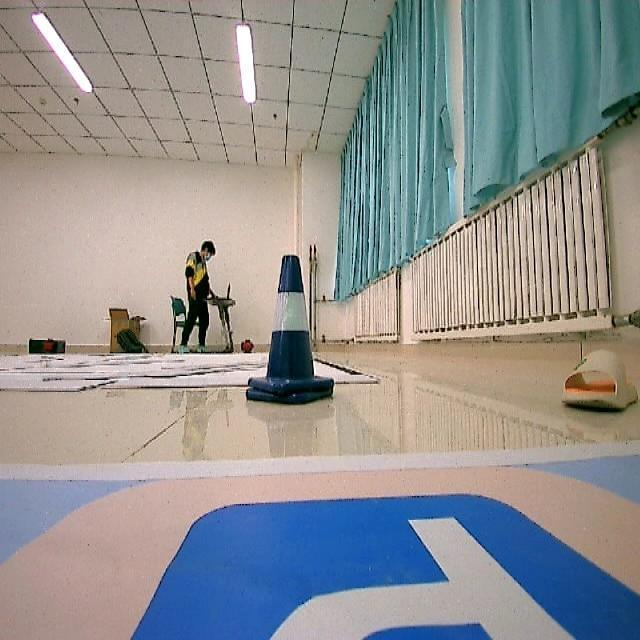obstacle: (246, 252, 334, 422)
